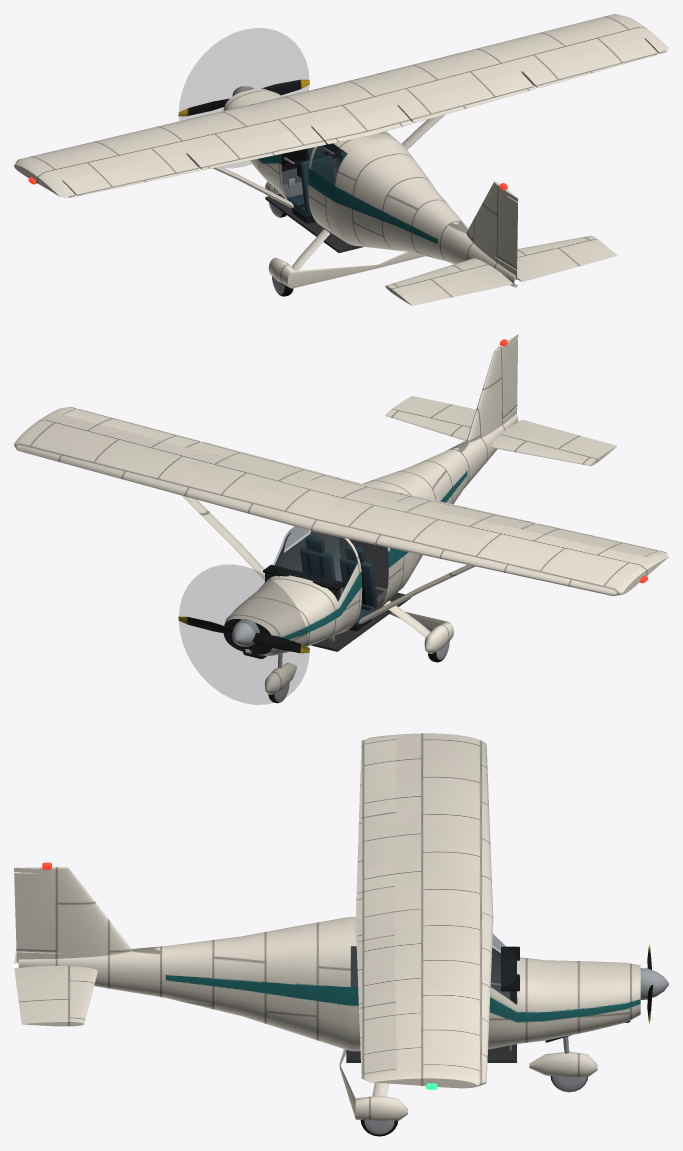
The model's file is gaviota_t2.glb.
3 renders of one model, top to bottom at view 1: azimuth 30°, elevation 25°; view 2: azimuth 150°, elevation 25°; view 3: azimuth 270°, elevation 25°, orthographic. The views are drawn at different scales.
Visible parts, largest first — view 1: wing_lod0, lod0, propeller_blur, cockpit_lod0, elevator, flap_r, flap_l, aileron_r, aileron_l, gear_l, rudder, propeller; view 2: wing_lod0, lod0, propeller_blur, cockpit_lod0, elevator, propeller, gear_l, aileron_r, flap_r, aileron_l, flap_l, gear_nose (+1 smaller); view 3: wing_lod0, lod0, flap_l, aileron_l, rudder, flap_r, aileron_r, cockpit_lod0, gear_r, gear_nose, elevator, propeller.
Part boxes in pixels (x1,y1,x2,y2): wing_lod0: (14, 14, 668, 298); lod0: (28, 88, 519, 287); propeller_blur: (179, 28, 309, 168); cockpit_lod0: (265, 145, 363, 252); elevator: (401, 246, 617, 305); flap_r: (398, 72, 535, 123); flap_l: (187, 126, 326, 170); aileron_r: (522, 38, 658, 88); aileron_l: (63, 153, 200, 195); gear_l: (268, 229, 377, 296); rudder: (495, 196, 517, 269); propeller: (178, 79, 309, 116); wing_lod0: (14, 402, 668, 623); lod0: (223, 334, 647, 658); propeller_blur: (179, 564, 309, 704); cockpit_lod0: (263, 531, 411, 651); elevator: (402, 396, 616, 454); propeller: (178, 616, 309, 653); gear_l: (383, 600, 453, 662); aileron_r: (63, 408, 200, 447); flap_r: (187, 441, 326, 480); aileron_l: (522, 523, 658, 556); flap_l: (398, 496, 535, 529); gear_nose: (264, 653, 296, 703); wing_lod0: (46, 733, 493, 1088); lod0: (14, 862, 640, 1089); flap_l: (356, 813, 395, 893); aileron_l: (359, 739, 396, 818); rudder: (14, 872, 60, 952); flap_r: (356, 935, 395, 1008); aileron_r: (359, 1003, 396, 1074); cockpit_lod0: (346, 946, 519, 1062); gear_r: (339, 1064, 407, 1136); gear_nose: (529, 1036, 597, 1092); elevator: (14, 949, 47, 1025); propeller: (640, 945, 668, 1022).
Size of what is drawn, in the model's own units: 8.69 by 2.65 by 6.9.
Materials: 21 (13 with a texture image).
